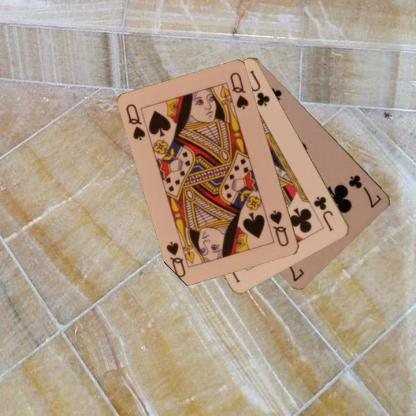7c: (346, 172, 383, 209)
Jc: (311, 193, 335, 233)
Qs: (267, 208, 291, 249), (123, 101, 147, 142)
